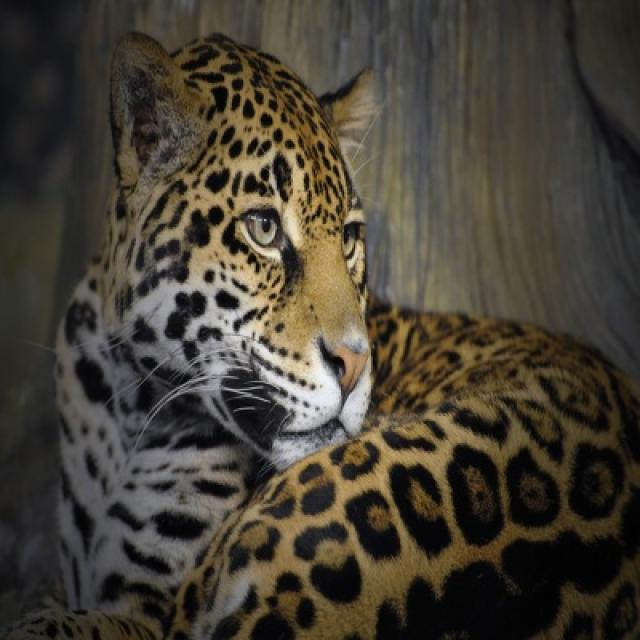Jaguar: (51, 32, 638, 638)
